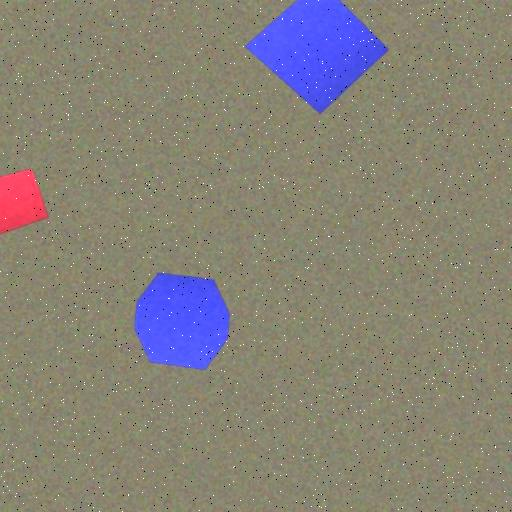BLUE_SQUARE: (244, 0, 390, 115)
RED_SQUARE: (0, 168, 50, 237)
